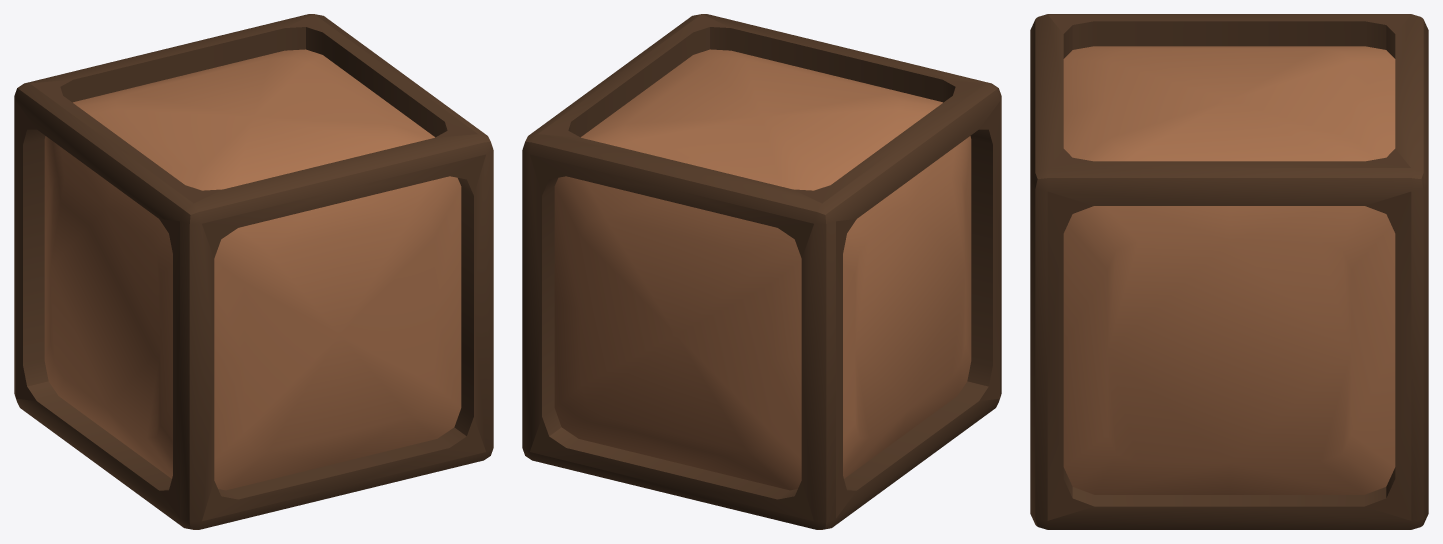
Rendered from caixa.fbx.
3 renders of one model, left to right at view 1: azimuth 30°, elevation 25°; view 2: azimuth 150°, elevation 25°; view 3: azimuth 270°, elevation 25°, orthographic. The views are drawn at different scales.
Visible parts, largest first — view 1: Cube; view 2: Cube; view 3: Cube.
Part boxes in pixels (box(x1,y1,x2,y2)): Cube: box(14, 14, 493, 529); Cube: box(522, 14, 1001, 529); Cube: box(1030, 14, 1428, 529).
Bounding box in the file's own units: 2 × 2 × 2.
